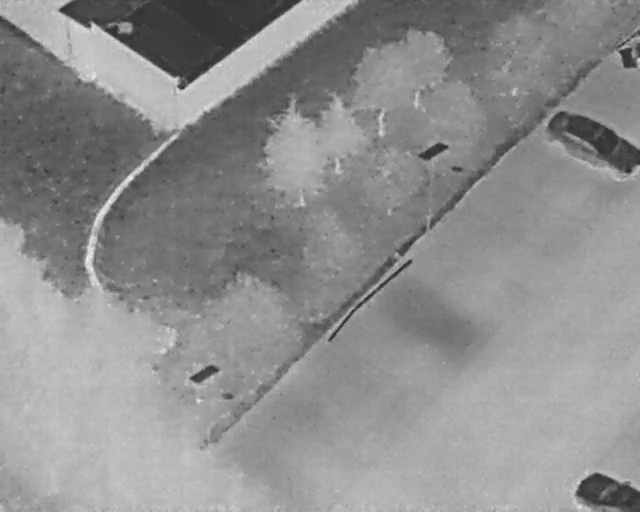Car: (542, 107, 639, 181), (571, 469, 639, 510)
